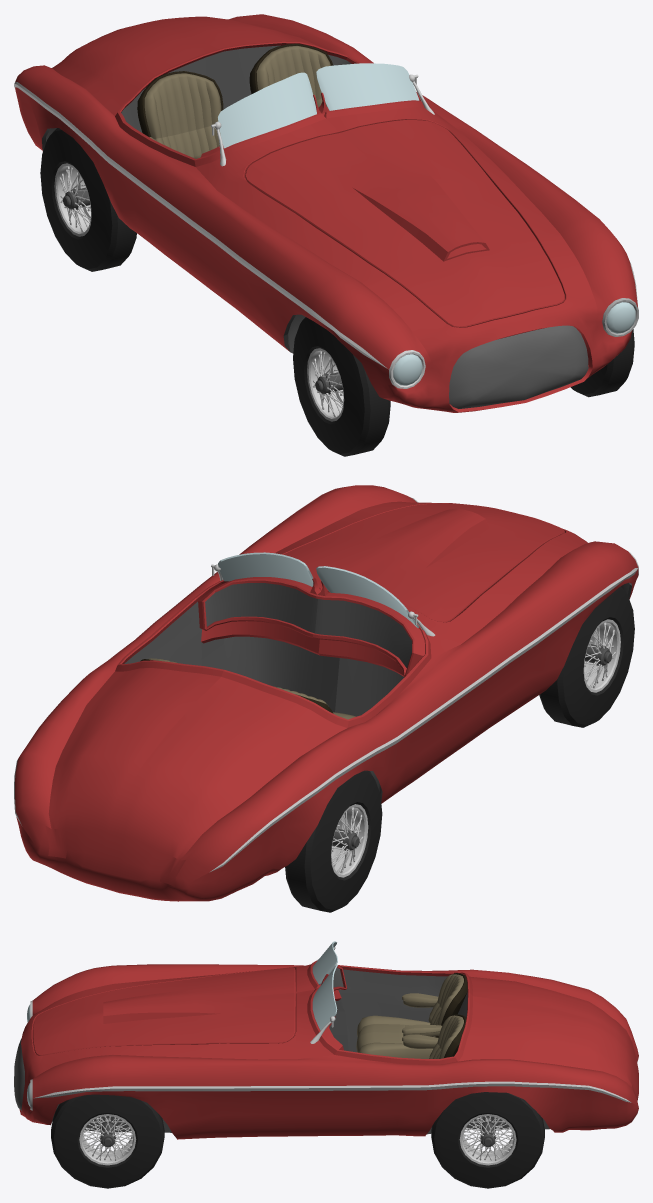
The model's file is Toy Car Final.fbx.
3 views of the same model, one above another, from view 1: azimuth 30°, elevation 25°; view 2: azimuth 150°, elevation 25°; view 3: azimuth 270°, elevation 25° (orthographic). The views are drawn at different scales.
Parts seen in each view (by area): view 1: MainBody, Hood, RF_Tire (×2), Seat_Back (×2), RR_Tire, R_Windshield, L_Windshield, R_Headlight, L_Headlight, RR_Spokes, RF_Spokes; view 2: MainBody, Hood, RR_Tire, RF_Tire, L_Windshield, R_Windshield, RF_Spokes, RR_Spokes; view 3: MainBody, Hood, RF_Tire, RR_Tire, Seat_Back (×2), Seat_Bottom, RR_Spokes, RF_Spokes, L_Windshield, R_Armrest (×2), R_Windshield, L_Armrest.
Boxes of the visible parts, x1,y1,x2,y2 form: MainBody: (14, 14, 638, 412); Hood: (245, 119, 565, 327); RF_Tire (×2): (293, 317, 634, 456); Seat_Back (×2): (137, 43, 333, 158); RR_Tire: (40, 128, 136, 271); R_Windshield: (218, 72, 316, 148); L_Windshield: (316, 63, 419, 110); R_Headlight: (389, 350, 425, 388); L_Headlight: (602, 298, 638, 336); RR_Spokes: (59, 166, 90, 232); RF_Spokes: (312, 351, 343, 416); MainBody: (14, 485, 638, 901); Hood: (283, 503, 564, 622); RR_Tire: (285, 770, 382, 912); RF_Tire: (539, 586, 634, 727); L_Windshield: (218, 552, 313, 586); R_Windshield: (316, 566, 419, 627); RF_Spokes: (584, 622, 615, 688); RR_Spokes: (332, 807, 363, 873); MainBody: (14, 960, 638, 1139); Hood: (32, 967, 295, 1055); RF_Tire: (51, 1094, 164, 1188); RR_Tire: (431, 1092, 544, 1188); Seat_Back (×2): (428, 973, 467, 1058); Seat_Bottom: (356, 1015, 432, 1058); RR_Spokes: (463, 1116, 513, 1160); RF_Spokes: (82, 1116, 132, 1160); L_Windshield: (312, 964, 337, 1030); R_Armrest (×2): (402, 993, 438, 1048); R_Windshield: (312, 941, 337, 984); L_Armrest: (402, 1024, 441, 1036).
Bounding box in the file's own units: 4.2 × 3.19 × 10.04.
